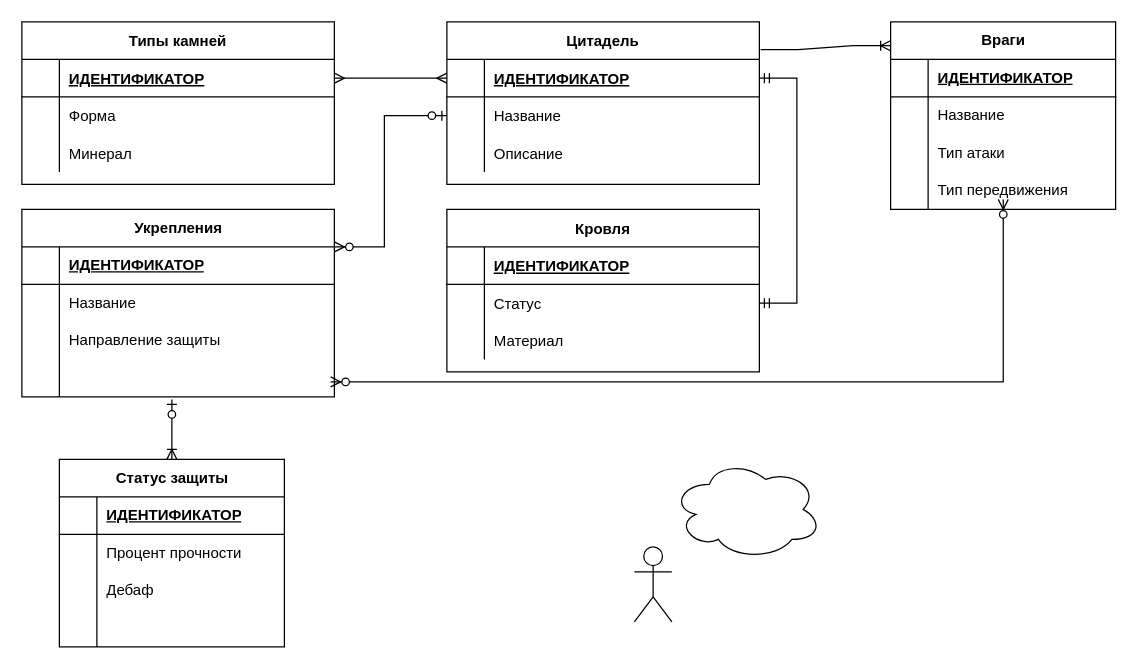
The diagram is 1138 pixels wide and 670 high, and some of its shapes have lost their labels. Each missing label, with the centre of its shape:
"Родион" goes at [652,584].
"Устал" goes at [746,508].
